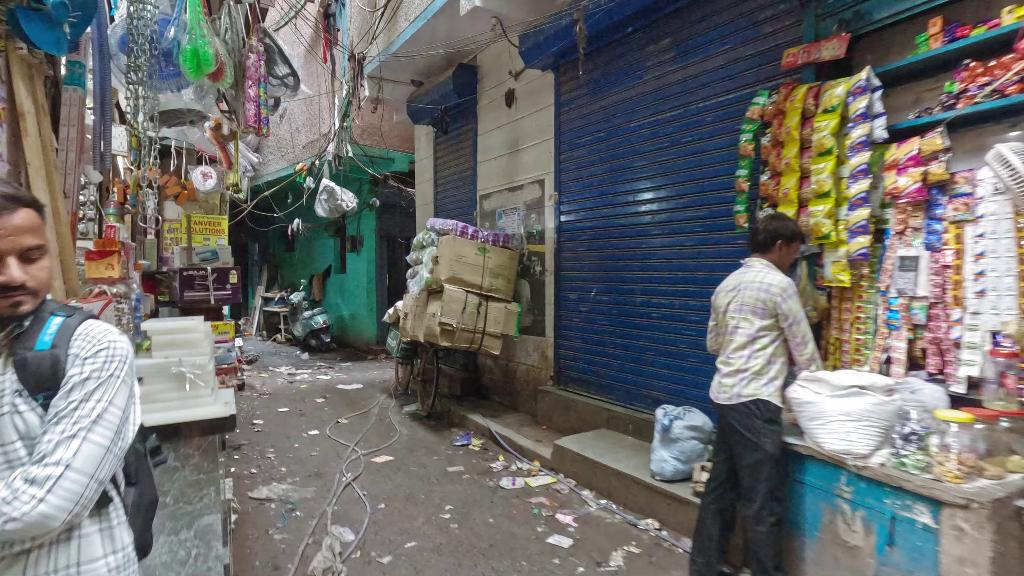garbage: (249, 476, 316, 513), (528, 495, 577, 527), (603, 539, 643, 571), (504, 471, 563, 490), (448, 428, 485, 454), (269, 361, 312, 380), (543, 531, 573, 552), (335, 377, 366, 397), (368, 451, 396, 465), (251, 415, 266, 429)
